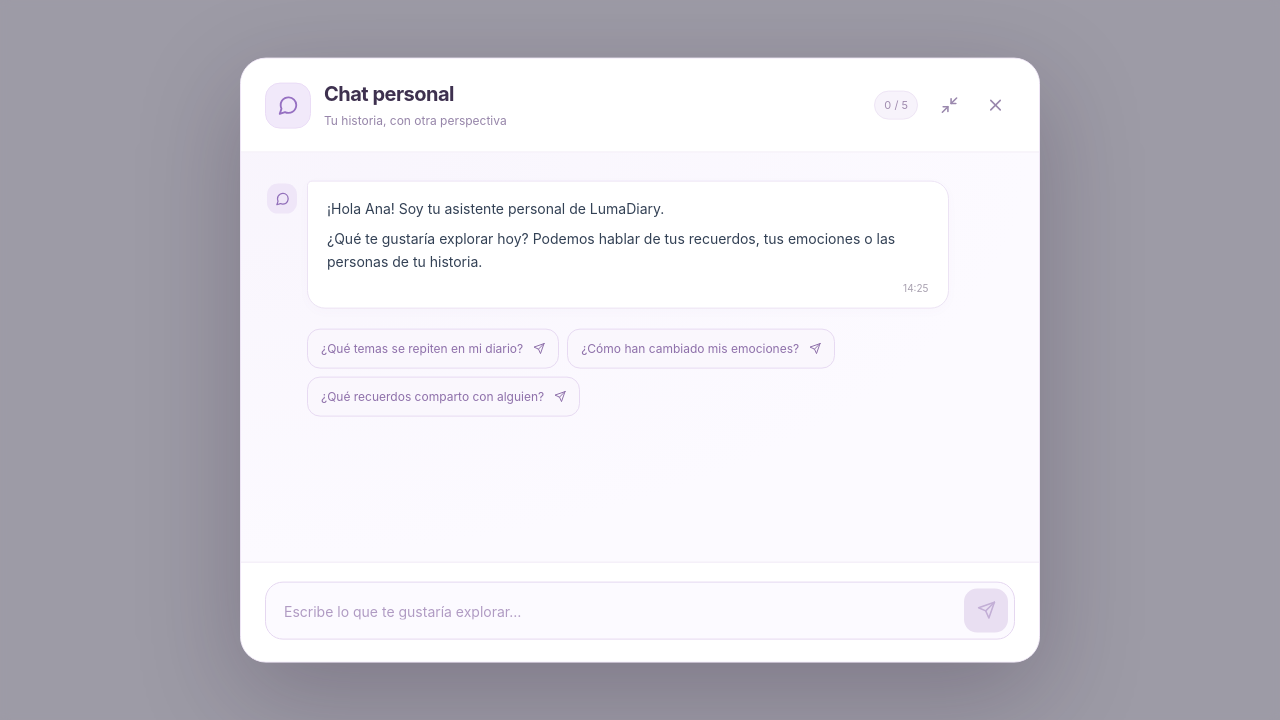
Test case: personal chat becomes usable after quota resolves and sends the message
In the field: (613, 610) x1=272 y1=588 x2=954 y2=632, type "Hola"
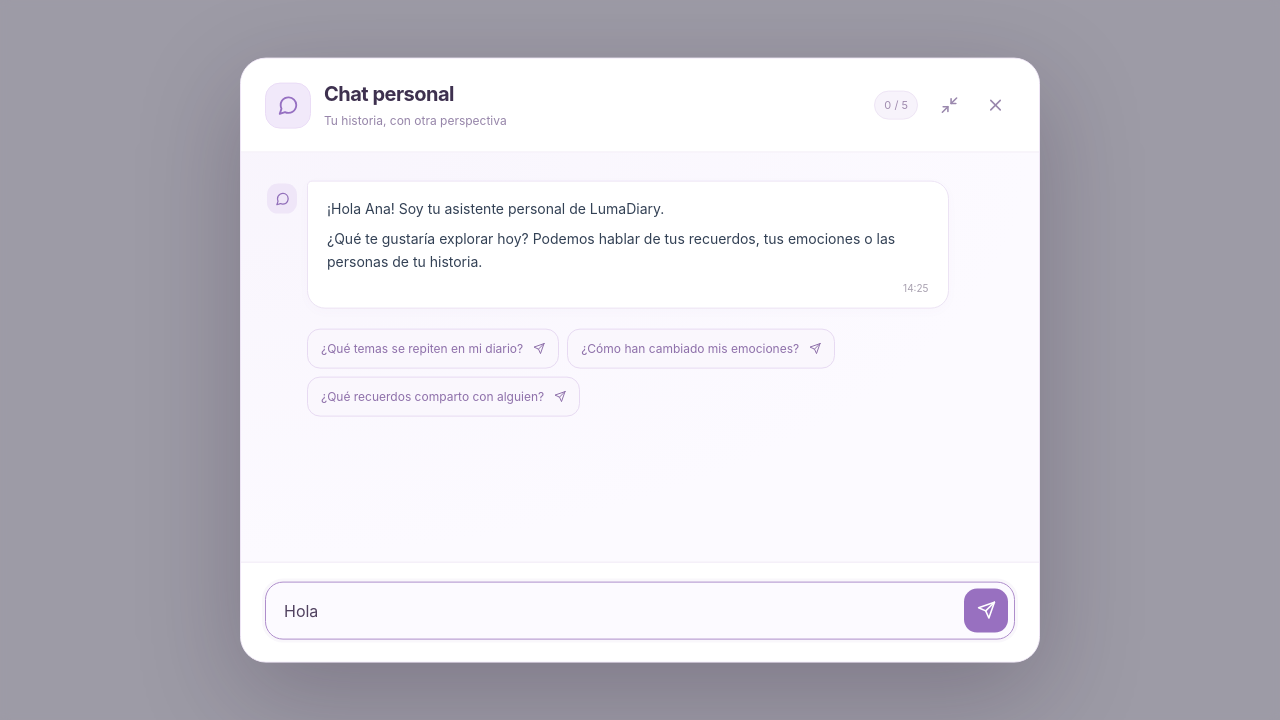
Click the button named "Enviar mensaje": (986, 610) x1=964 y1=588 x2=1008 y2=632
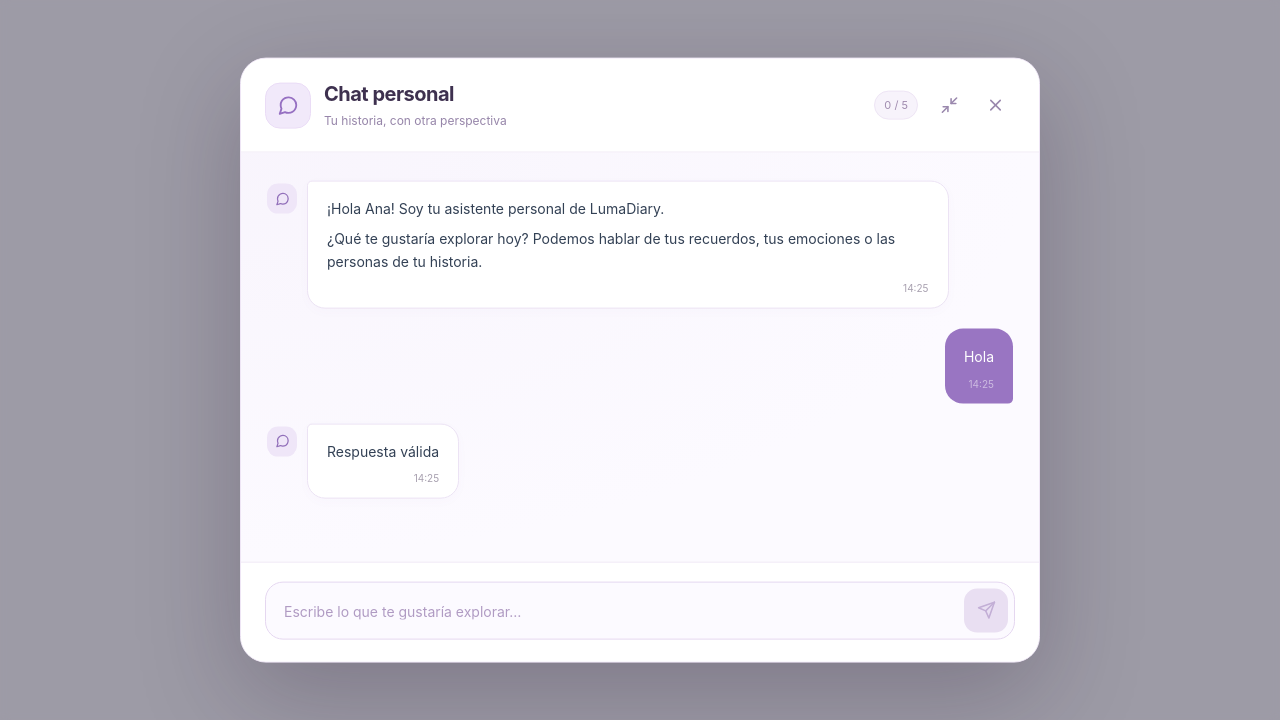
Result: the text "Respuesta válida" is shown at x1=327 y1=440 x2=439 y2=463
